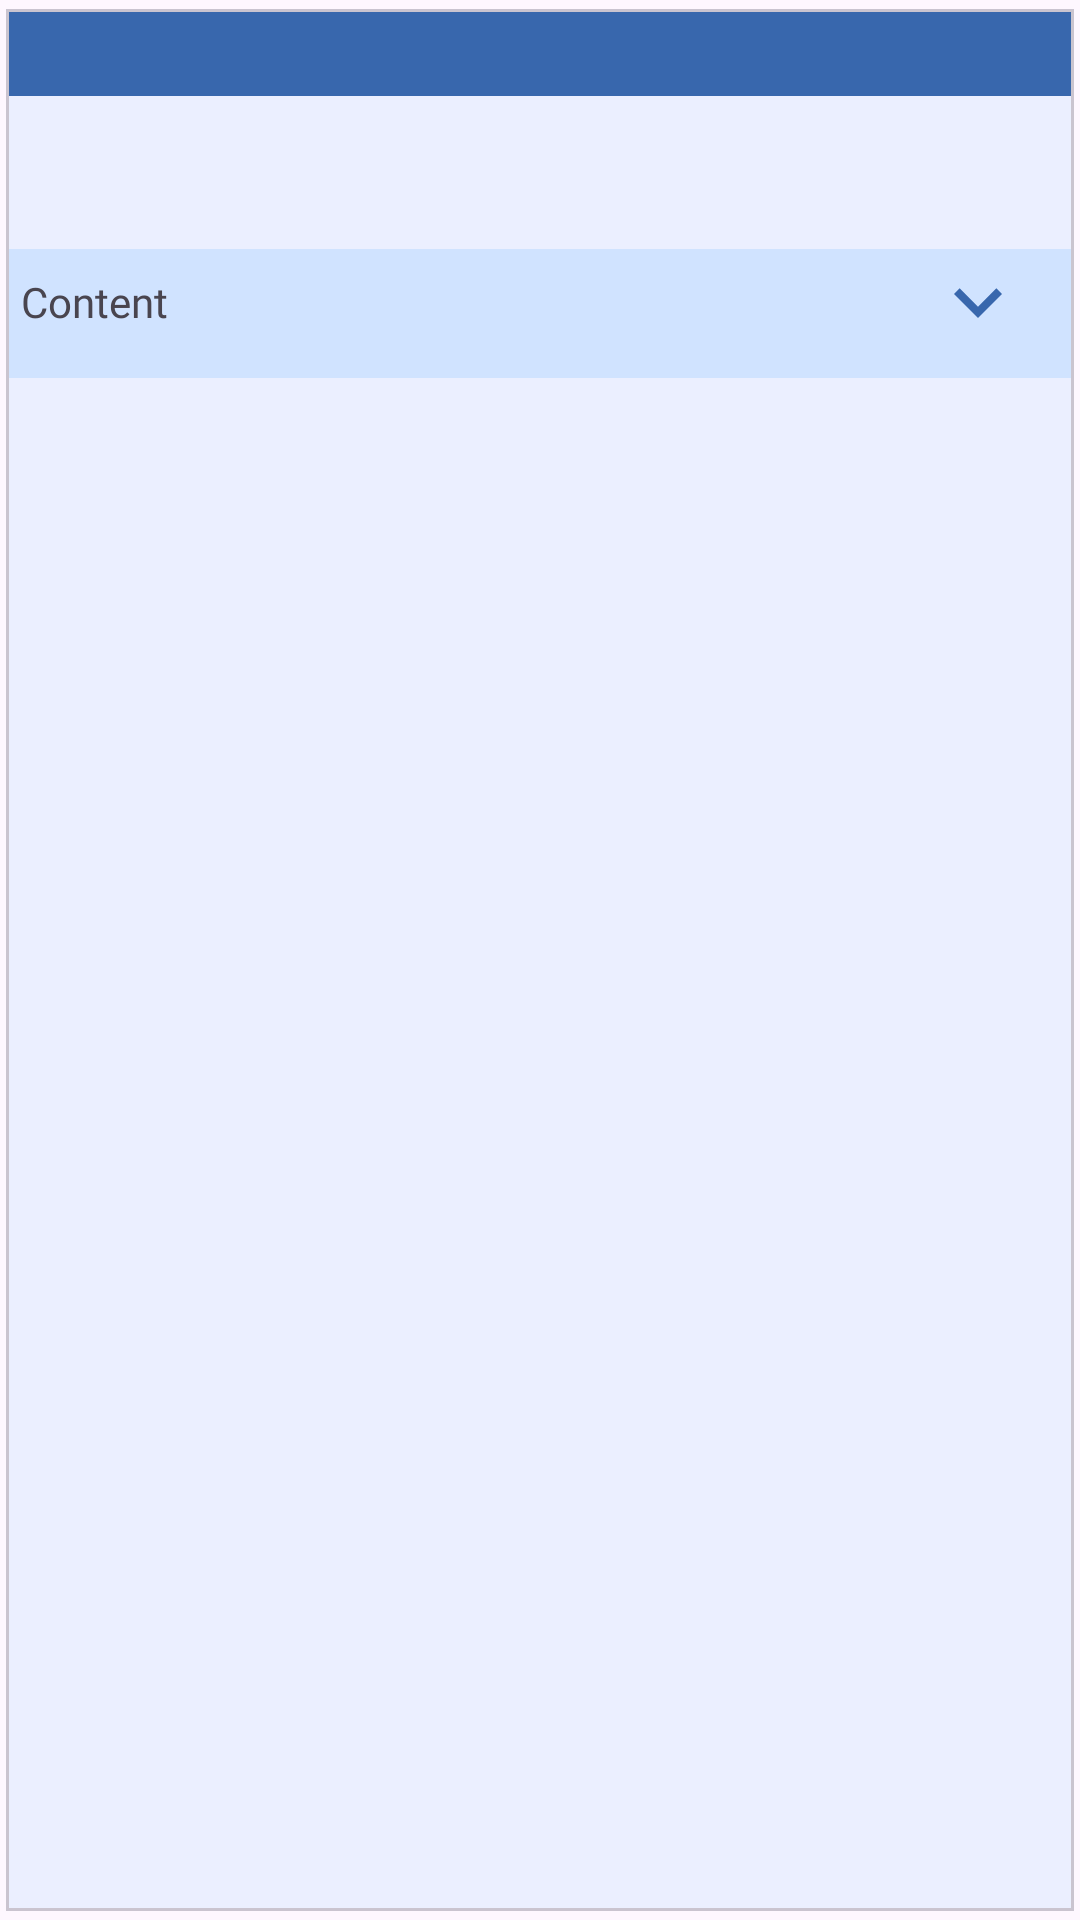

Where icons sit on this 1080*1920 app screen, as [x1,y1,x2,y2]:
expand more: [954,288,1002,318]
